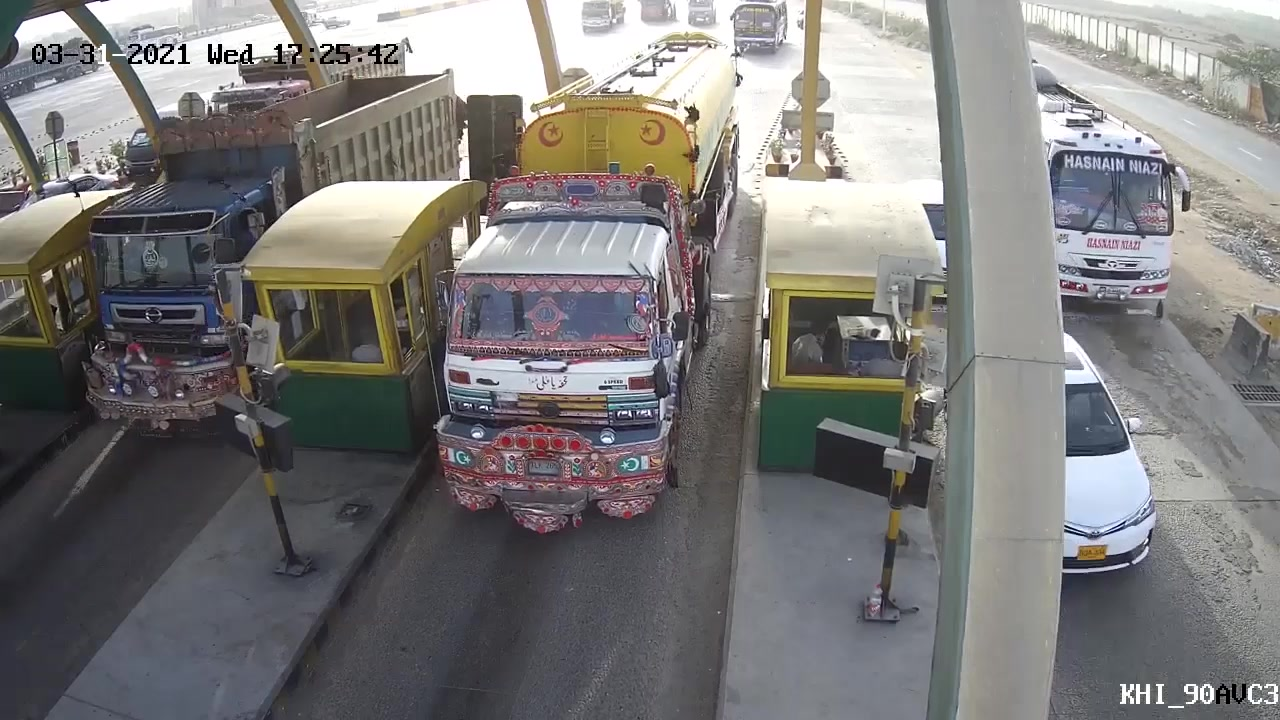F6: (439, 25, 739, 544)
